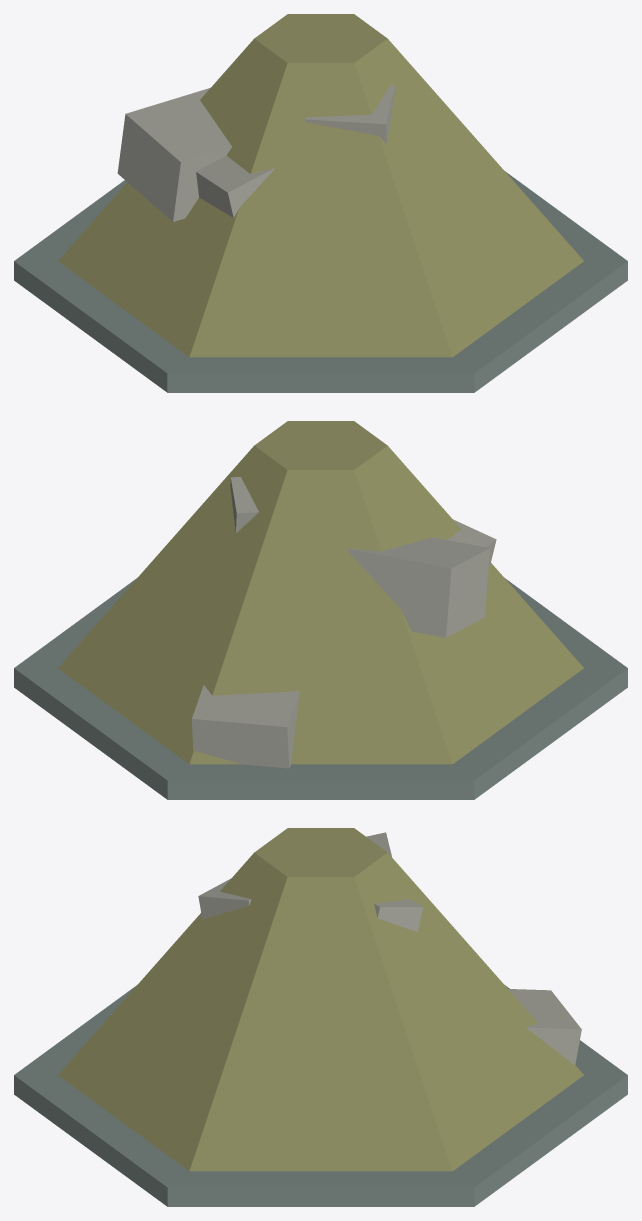
Rendered from SM_MontonEscombro_v0_Cascotes_LOD1.fbx.
3 renders of one model, top to bottom at view 1: azimuth 30°, elevation 25°; view 2: azimuth 150°, elevation 25°; view 3: azimuth 270°, elevation 25°, orthographic.
Visible parts, largest first — view 1: SM_monton_escombro_v0_LOD1; view 2: SM_monton_escombro_v0_LOD1; view 3: SM_monton_escombro_v0_LOD1.
Part boxes in pixels (x1,y1,x2,y2): SM_monton_escombro_v0_LOD1: (14, 14, 627, 392); SM_monton_escombro_v0_LOD1: (14, 421, 627, 799); SM_monton_escombro_v0_LOD1: (14, 828, 627, 1206).
Bounding box in the file's own units: 1.99 × 1 × 2.3.
